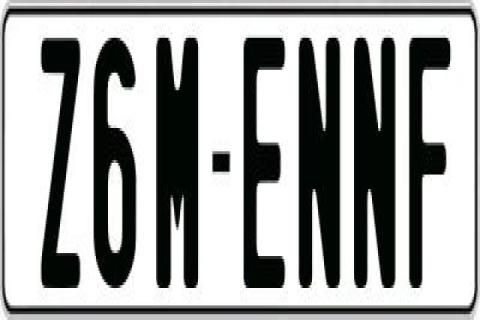0: (92, 38, 138, 300)
E: (244, 29, 290, 282)
F: (410, 29, 452, 282)
M: (154, 32, 200, 291)
N: (353, 32, 395, 296), (296, 29, 336, 279)
Z: (40, 32, 88, 288)
